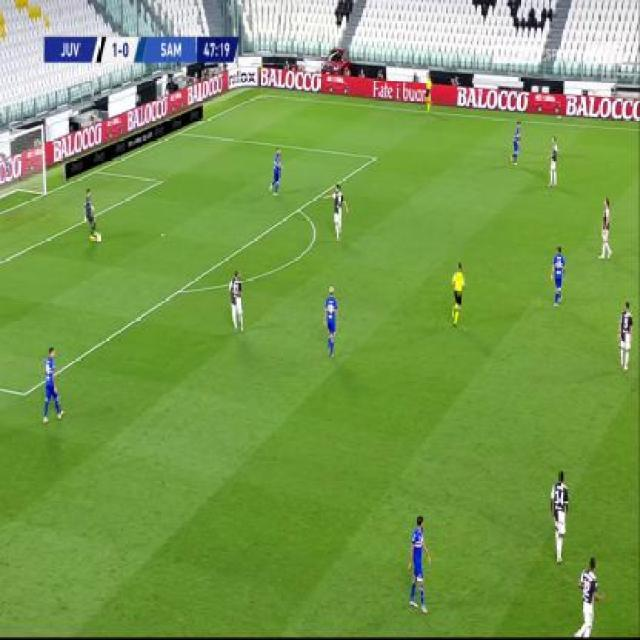ball: (94, 231, 102, 242)
player: (571, 551, 604, 637), (406, 508, 431, 613), (548, 464, 570, 561), (40, 343, 63, 422), (615, 295, 634, 371), (323, 281, 340, 360), (548, 243, 567, 308), (449, 258, 466, 327), (227, 266, 244, 332), (82, 182, 101, 241), (329, 182, 348, 239), (597, 194, 614, 257), (268, 144, 284, 197), (546, 132, 560, 186), (509, 120, 522, 166), (423, 68, 434, 114)
